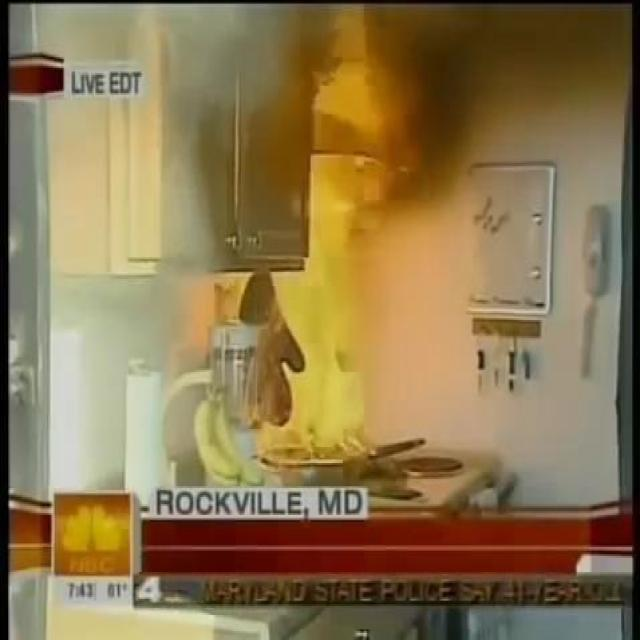fire: (11, 2, 308, 122), (401, 0, 494, 202)
smoke: (245, 0, 423, 461)
